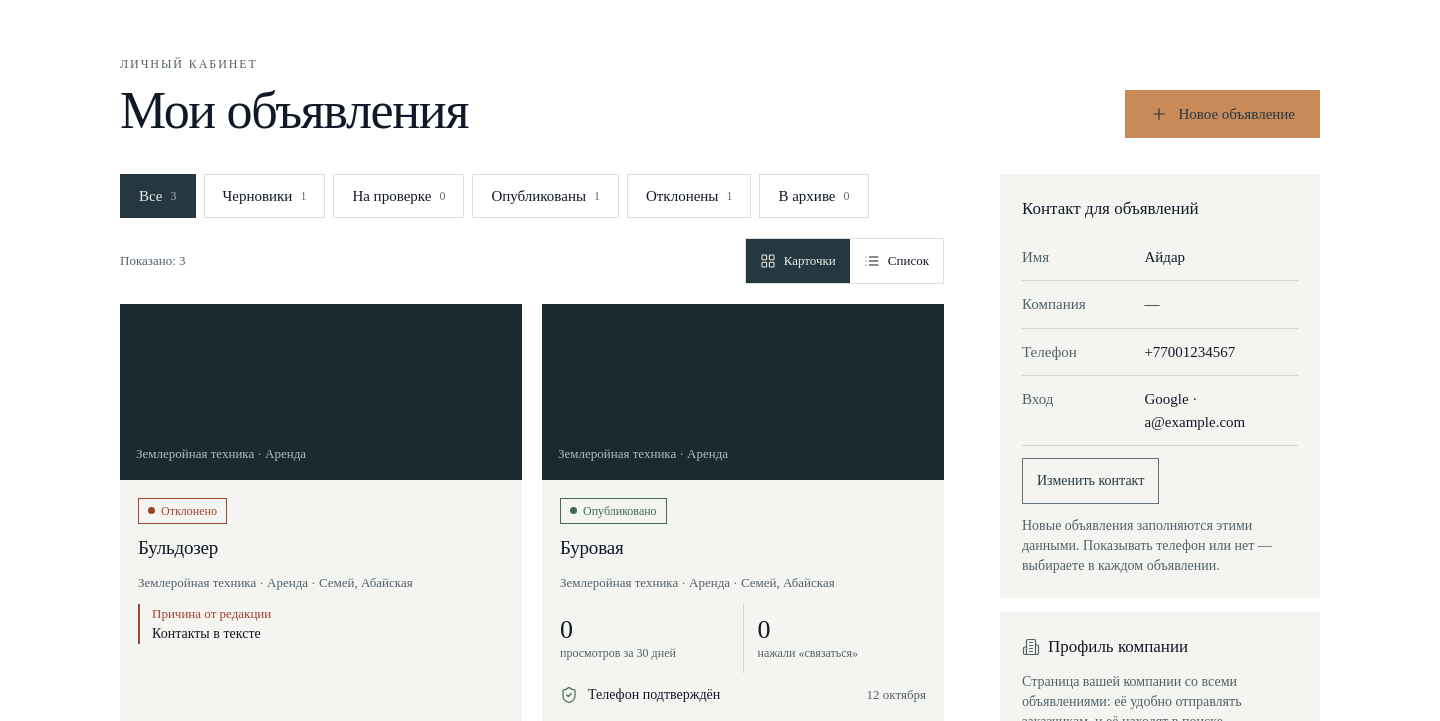
Test: shows listings as cards with counts, reasons and trust marks
Expected: the text "Контакты в тексте" is shown, x1=152 y1=626 x2=261 y2=641
Expected: the button "Отклонены 1" is shown, x1=627 y1=174 x2=752 y2=218
Click the button "Список": [896, 261] box x1=850 y1=239 x2=943 y2=283
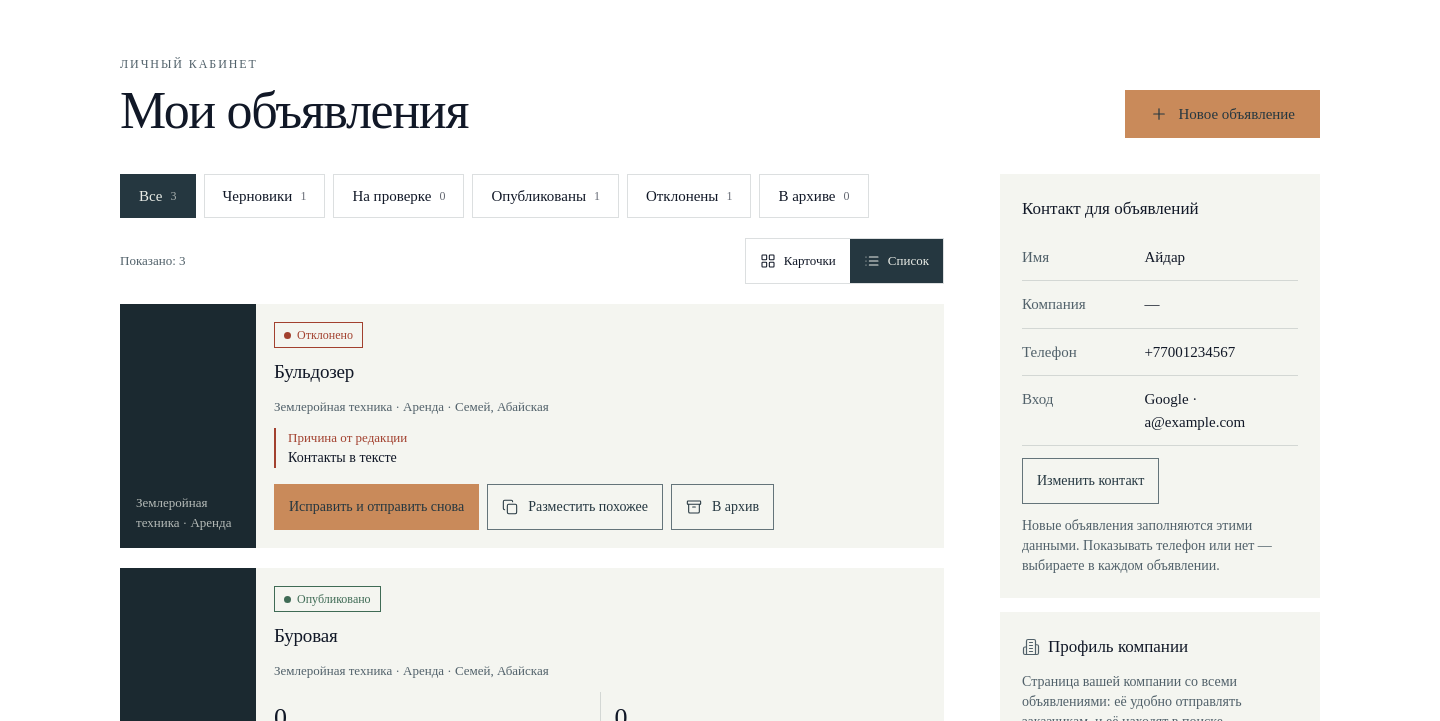
Click the button "Отклонены 1": [689, 196] box x1=627 y1=174 x2=752 y2=218
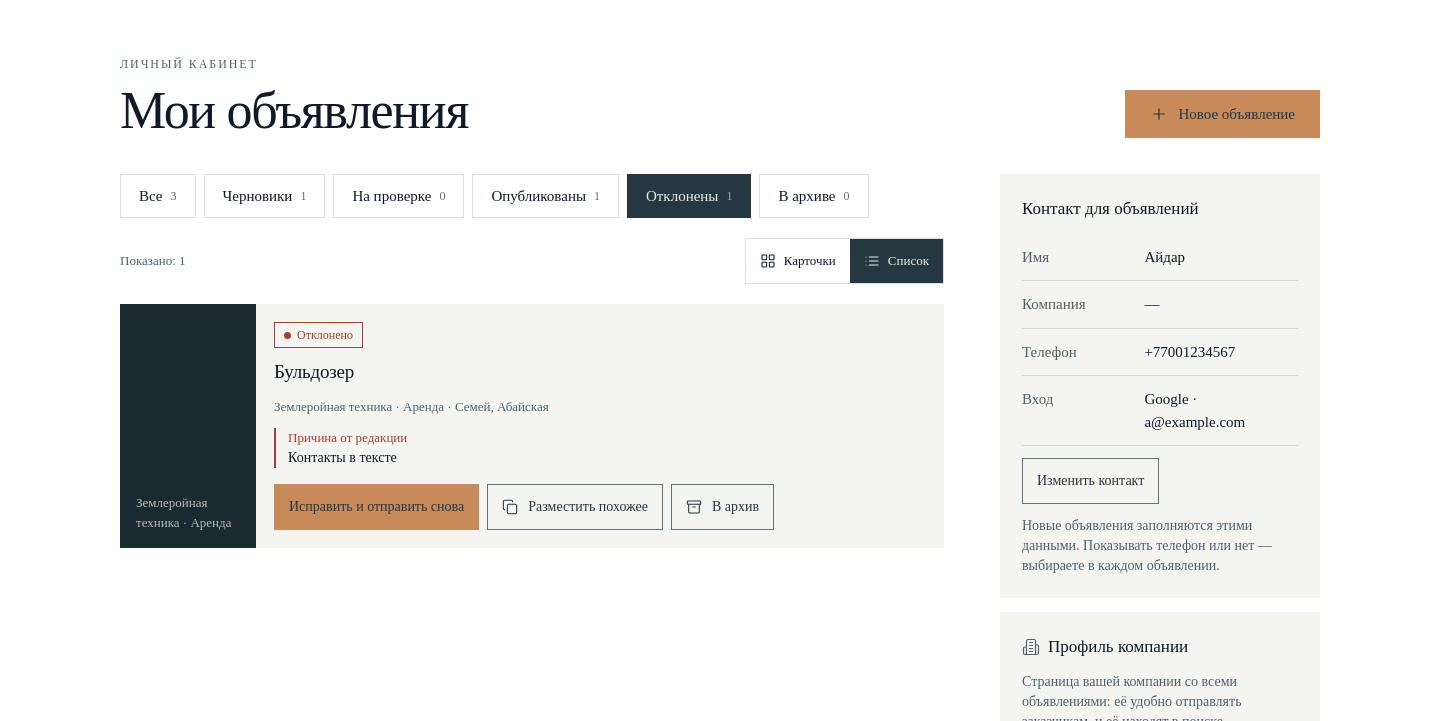
Result: the heading "Буровая" is gone
